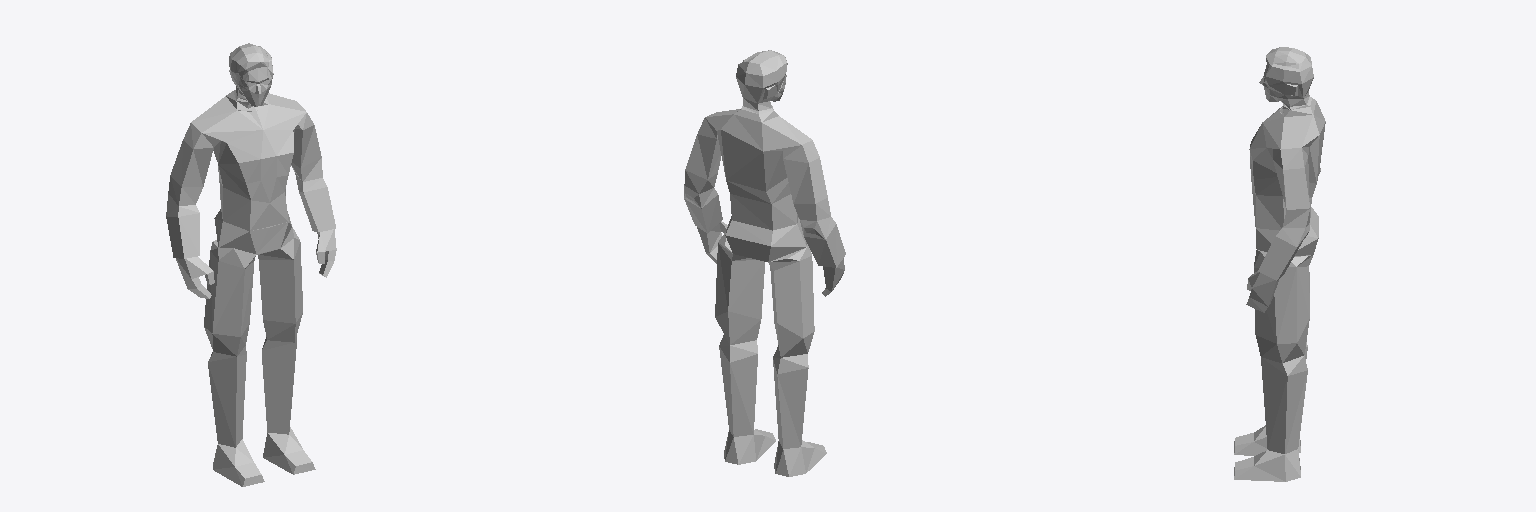
Rendered from Manuel112.obj.
The picture shows the model from 3 angles: view 1: azimuth 30°, elevation 25°; view 2: azimuth 150°, elevation 25°; view 3: azimuth 270°, elevation 25°; orthographic projection.
Parts seen in each view (by area): view 1: leon; view 2: leon; view 3: leon.
Part boxes in pixels (x1,y1,x2,y2): leon: (166, 43, 336, 486); leon: (684, 50, 845, 476); leon: (1234, 47, 1325, 481).
Bounding box in the file's own units: 4.68 × 12.19 × 2.46.